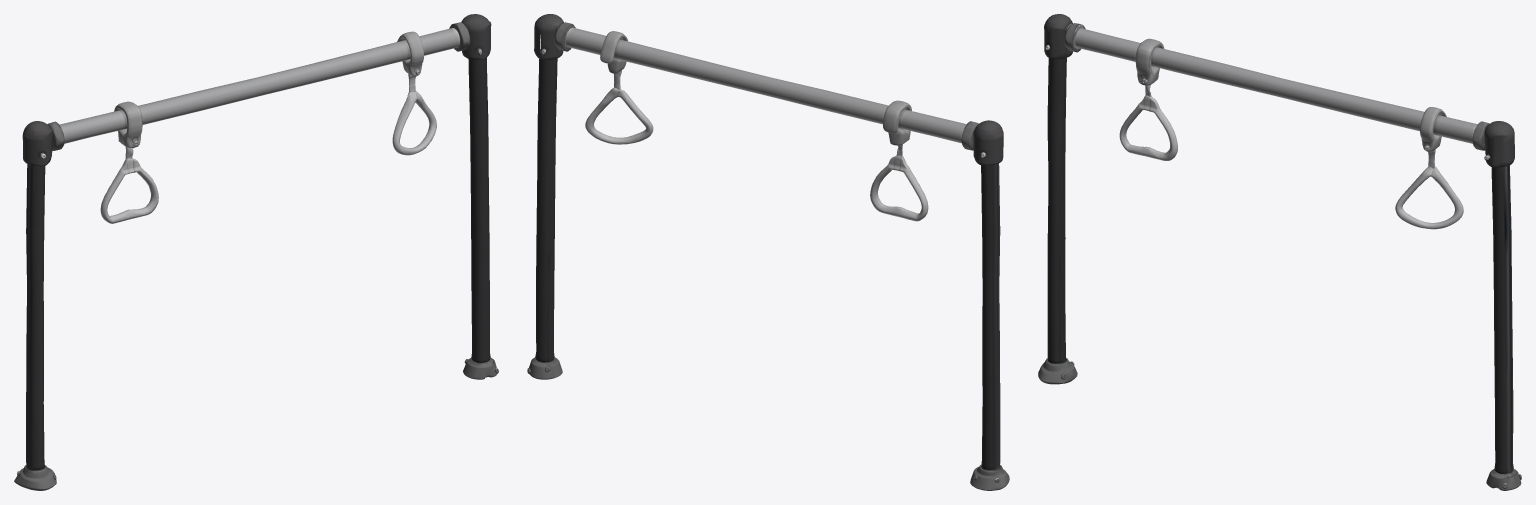
Rendered from toonstudio_bus_handrail.glb.
3 views of the same model, side by side, from view 1: azimuth 30°, elevation 25°; view 2: azimuth 150°, elevation 25°; view 3: azimuth 330°, elevation 25° (orthographic).
Visible parts, largest first — view 1: e1686b06_b33d_4112_90db_7880095c6ac7; view 2: e1686b06_b33d_4112_90db_7880095c6ac7; view 3: e1686b06_b33d_4112_90db_7880095c6ac7.
Part boxes in pixels (<box>): e1686b06_b33d_4112_90db_7880095c6ac7: <box>14,14,498,490</box>; e1686b06_b33d_4112_90db_7880095c6ac7: <box>527,14,1009,490</box>; e1686b06_b33d_4112_90db_7880095c6ac7: <box>1038,14,1521,490</box>.
Size of the model in its own units: 2 by 1.44 by 0.1661.
Materials: 1 (1 with a texture image).
